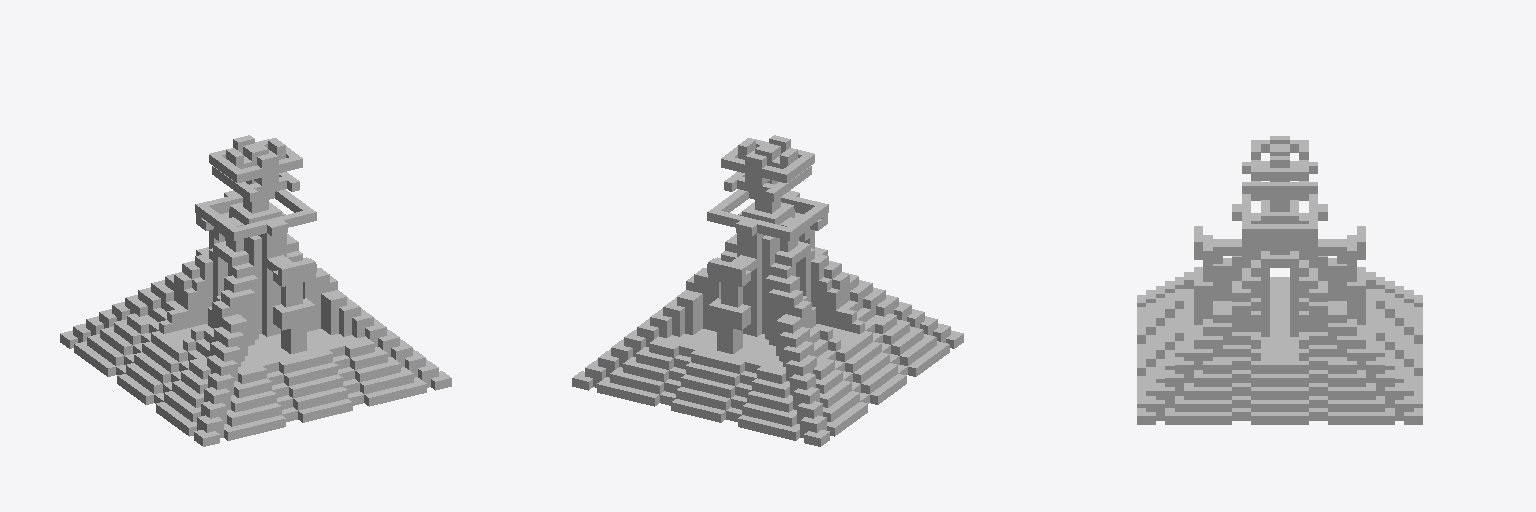
File: Erdbebenturm.obj
The picture shows the model from 3 angles: view 1: azimuth 30°, elevation 25°; view 2: azimuth 150°, elevation 25°; view 3: azimuth 270°, elevation 25°; orthographic projection.
Visible parts, largest first — view 1: Temple Tower; view 2: Temple Tower; view 3: Temple Tower.
Boxes of the visible parts, x1,y1,x2,y2 form: Temple Tower: [60, 135, 451, 446]; Temple Tower: [572, 135, 963, 446]; Temple Tower: [1137, 136, 1422, 424].
Size of the model in its own units: 30 by 25 by 30.